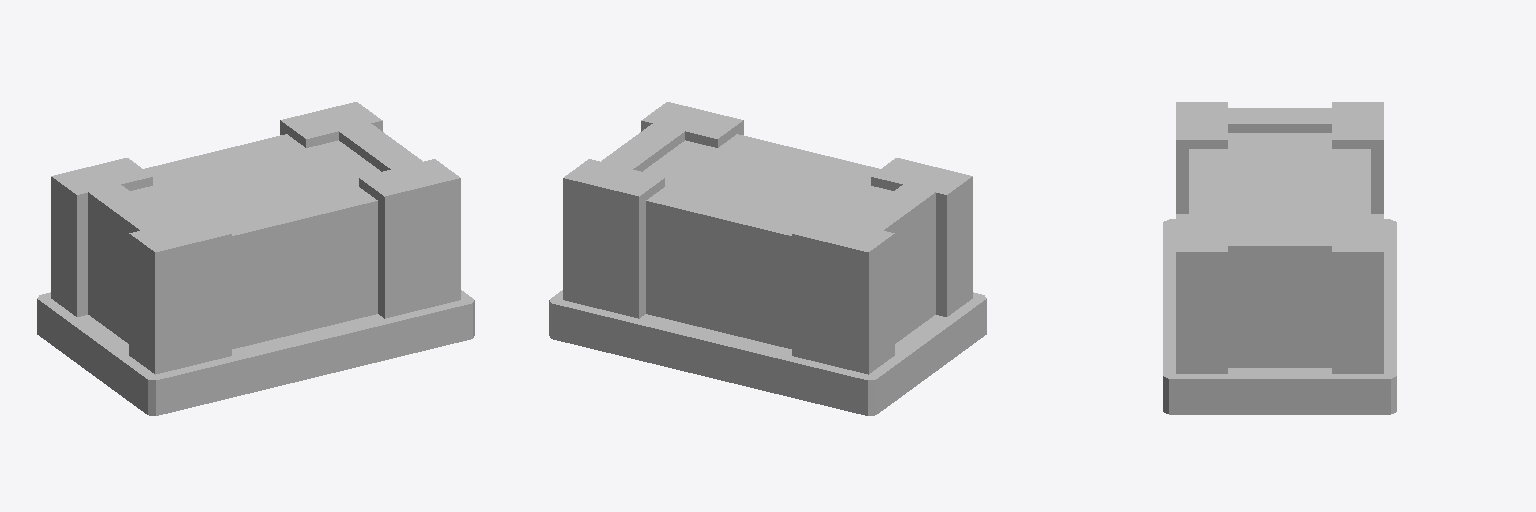
File: altarStone.obj
The picture shows the model from 3 angles: view 1: azimuth 30°, elevation 25°; view 2: azimuth 150°, elevation 25°; view 3: azimuth 270°, elevation 25°; orthographic projection.
Parts seen in each view (by area): view 1: altarStone; view 2: altarStone; view 3: altarStone.
Boxes of the visible parts, box(x1,y1,x2,y2) form: altarStone: box(37, 102, 474, 415); altarStone: box(549, 102, 986, 415); altarStone: box(1163, 102, 1396, 414).
Bounding box in the file's own units: 1.06 × 0.4876 × 0.6532.